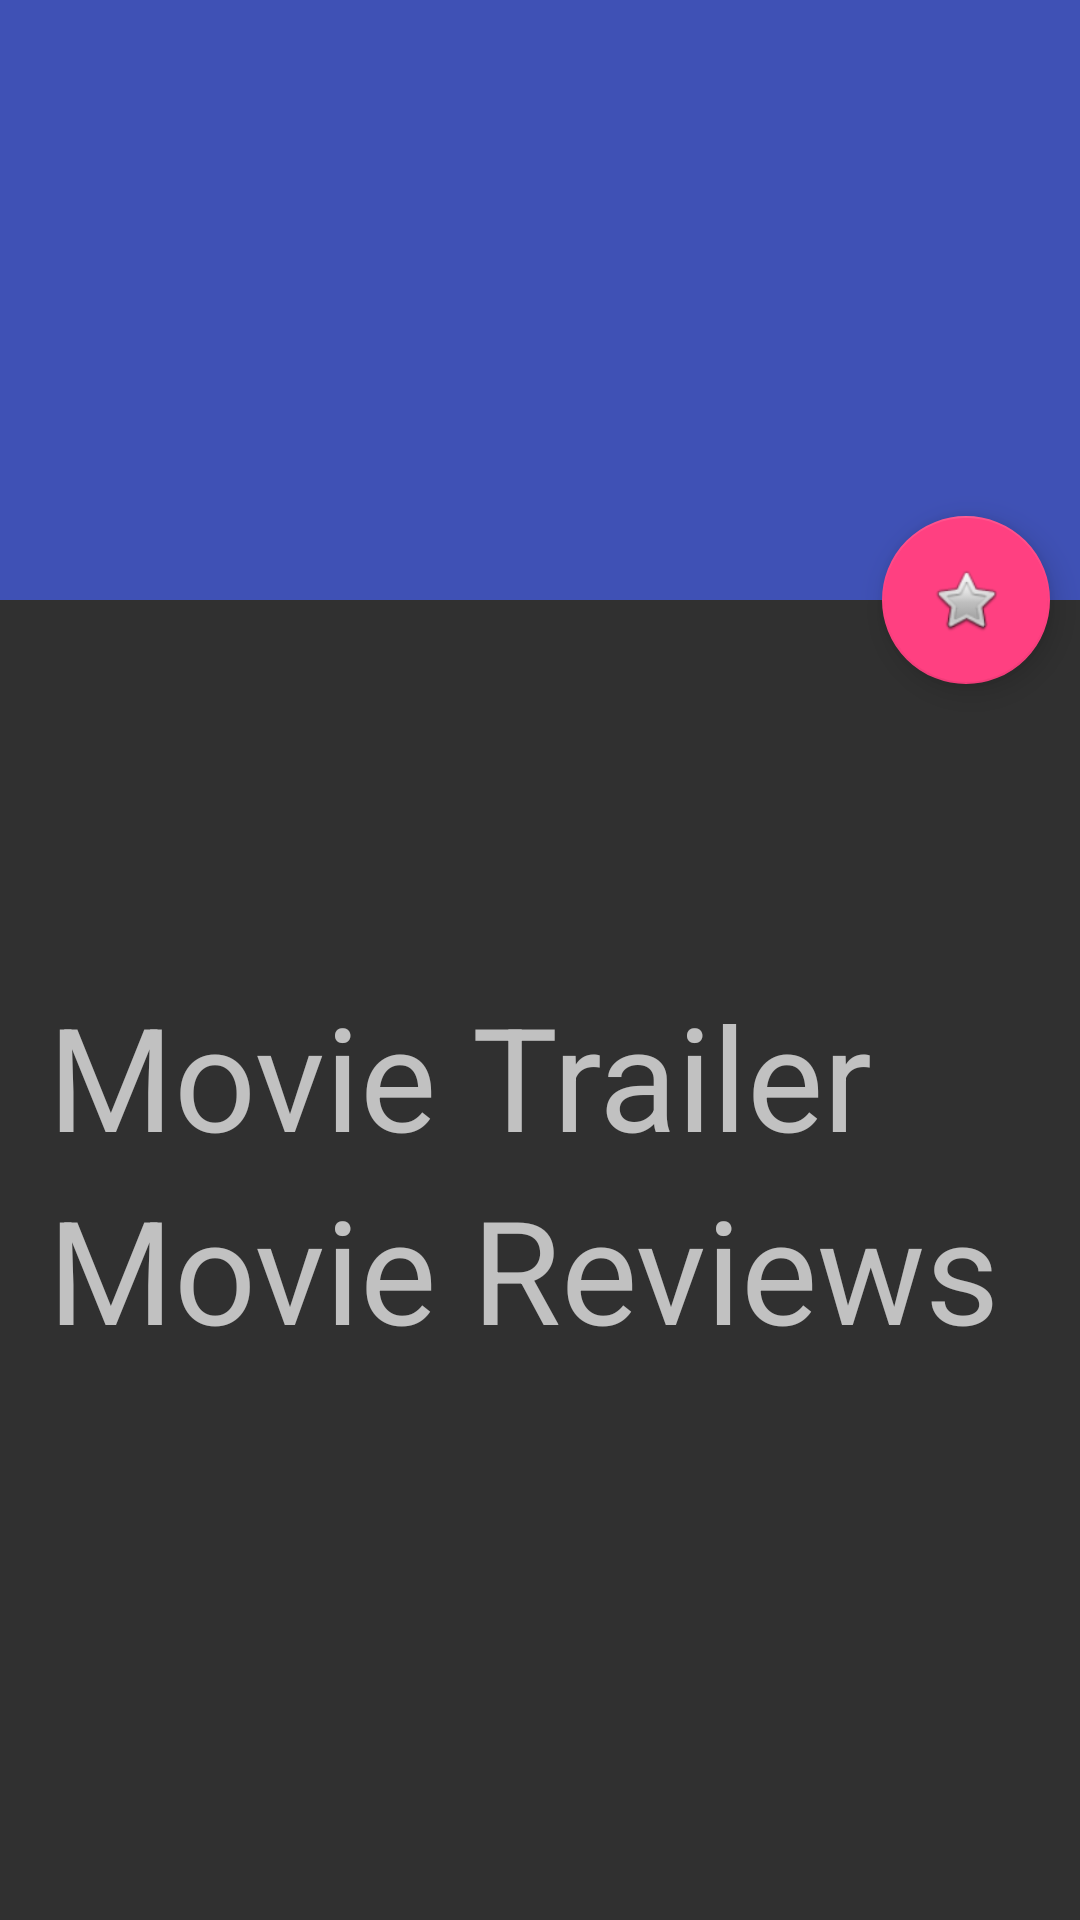

Screen size 1080*1920. Icon name, then its center in pixels as point (x, y):
star off: point (966, 600)
